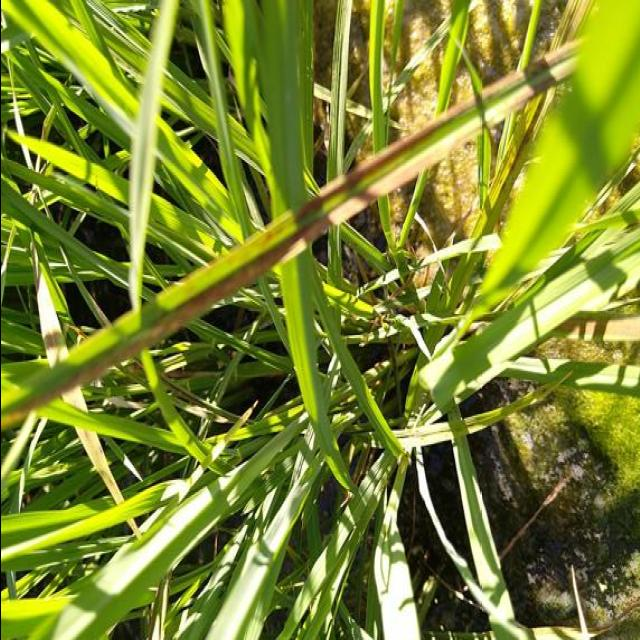Leaf Blight: (0, 37, 589, 424), (75, 429, 119, 504), (35, 263, 67, 366), (63, 386, 88, 411)
